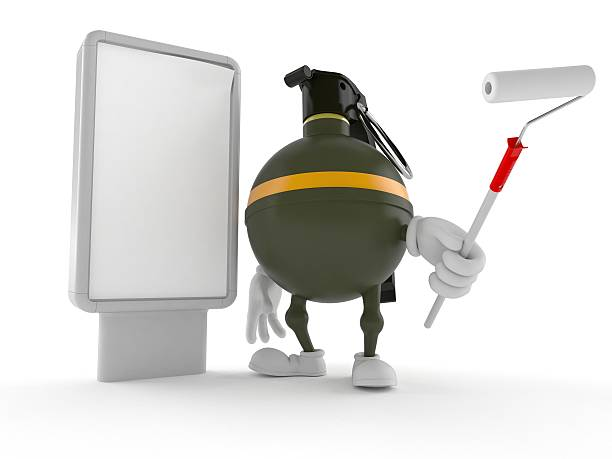e1: (242, 64, 414, 304)
